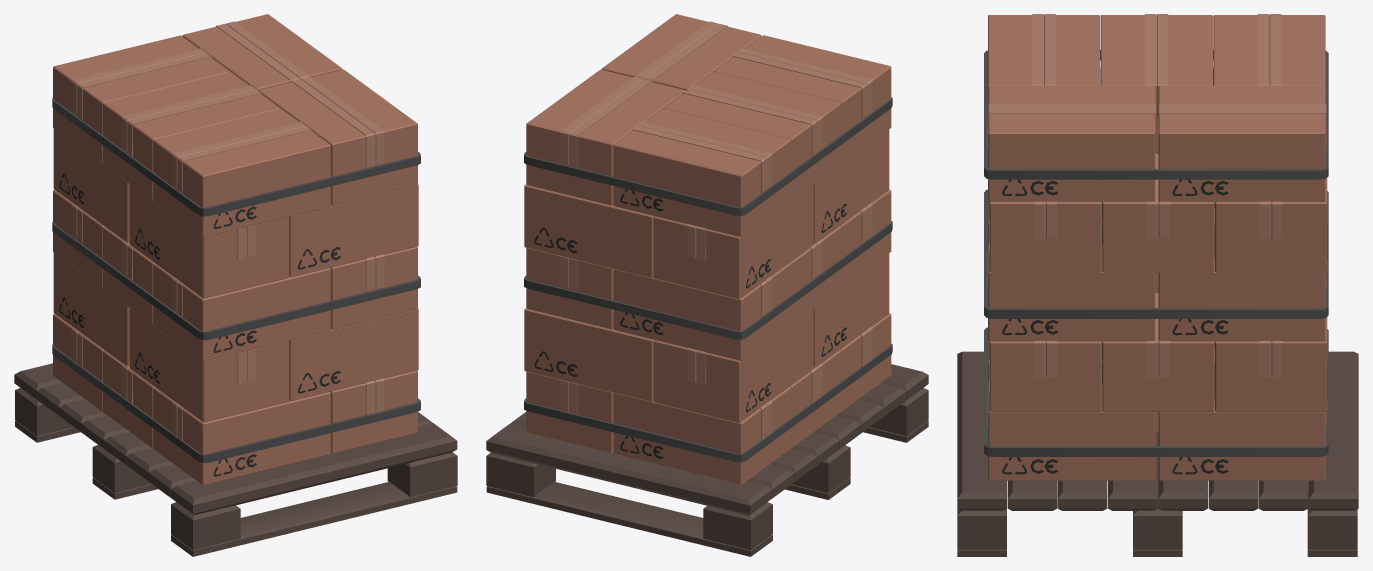
File: props_21.glb
The picture shows the model from 3 angles, left to right: view 1: azimuth 30°, elevation 25°; view 2: azimuth 150°, elevation 25°; view 3: azimuth 270°, elevation 25°; orthographic projection. The views are drawn at different scales.
Visible parts, largest first — view 1: props_21; view 2: props_21; view 3: props_21.
Boxes of the visible parts, bbox=[...] form: props_21: bbox=[14, 14, 457, 556]; props_21: bbox=[486, 14, 928, 556]; props_21: bbox=[957, 14, 1358, 556].
Size of the model in its own units: 1.7 by 2.25 by 1.99.
1 material, 1 textured.
